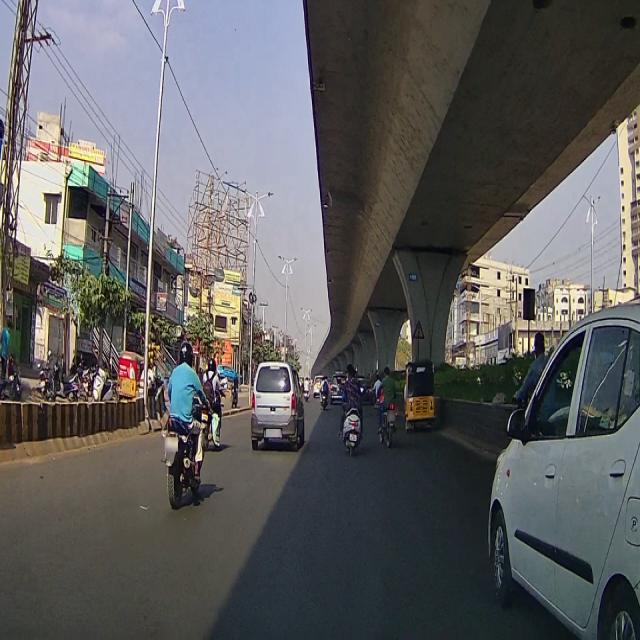gap-in-median: (413, 320, 424, 338)
